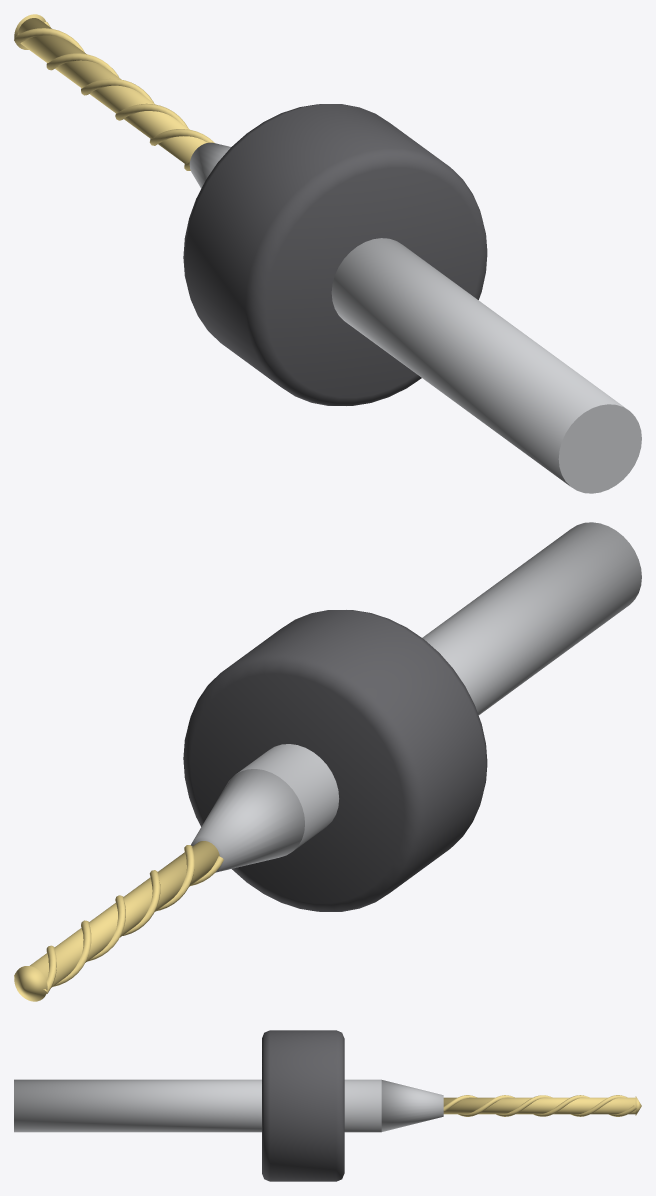
The model's file is drill18_1p3.glb.
3 renders of one model, top to bottom at view 1: azimuth 30°, elevation 25°; view 2: azimuth 150°, elevation 25°; view 3: azimuth 270°, elevation 25°, orthographic. The views are drawn at different scales.
Visible parts, largest first — view 1: Cylinder.002, Cylinder.001, Cylinder, flute, flute.001, Cone; view 2: Cylinder.002, Cylinder.001, Cone, Cylinder, flute, flute.001, Cone.001; view 3: Cylinder.001, Cylinder.002, Cylinder, Cone, flute, flute.001.
Part boxes in pixels (<box>): Cylinder.002: <box>183,104,487,405</box>; Cylinder.001: <box>331,238,641,493</box>; Cylinder: <box>17,18,207,165</box>; flute: <box>14,28,214,145</box>; flute.001: <box>44,22,190,170</box>; Cone: <box>189,142,230,188</box>; Cylinder.002: <box>183,610,487,911</box>; Cylinder.001: <box>235,522,641,850</box>; Cone: <box>191,769,304,872</box>; Cylinder: <box>30,841,219,987</box>; flute: <box>43,845,194,993</box>; flute.001: <box>14,856,223,986</box>; Cone.001: <box>14,966,47,1001</box>; Cylinder.001: <box>14,1079,381,1132</box>; Cylinder.002: <box>262,1030,344,1181</box>; Cylinder: <box>443,1097,635,1114</box>; Cone: <box>381,1080,443,1131</box>; flute: <box>443,1095,627,1116</box>; flute.001: <box>458,1095,636,1116</box>.
Bounding box in the file's own units: 0.00917 × 0.00917 × 0.038.
